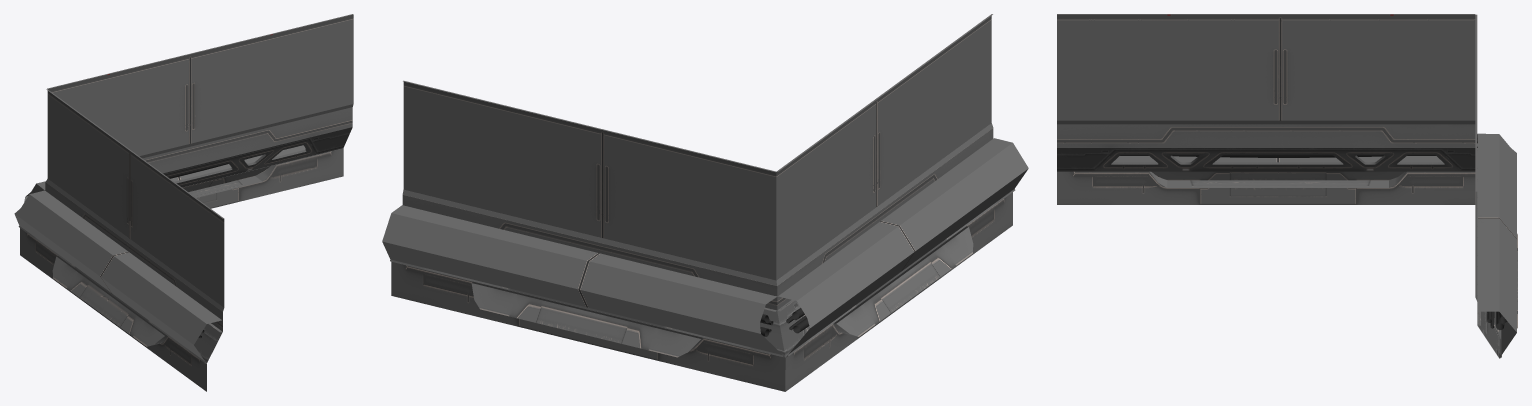
File: TopCables_Corner_Square_Inner.gltf
3 views of the same model, side by side, from view 1: azimuth 30°, elevation 25°; view 2: azimuth 150°, elevation 25°; view 3: azimuth 270°, elevation 25° (orthographic). The views are drawn at different scales.
Parts seen in each view (by area): view 1: TopCables_Corner_Square_Inner; view 2: TopCables_Corner_Square_Inner; view 3: TopCables_Corner_Square_Inner.
Part boxes in pixels (bbox=[...]): TopCables_Corner_Square_Inner: bbox=[14, 14, 353, 391]; TopCables_Corner_Square_Inner: bbox=[382, 14, 1028, 391]; TopCables_Corner_Square_Inner: bbox=[1057, 14, 1517, 358].
Size of the model in its own units: 4.17 by 2 by 4.17.
4 materials, 4 textured.
